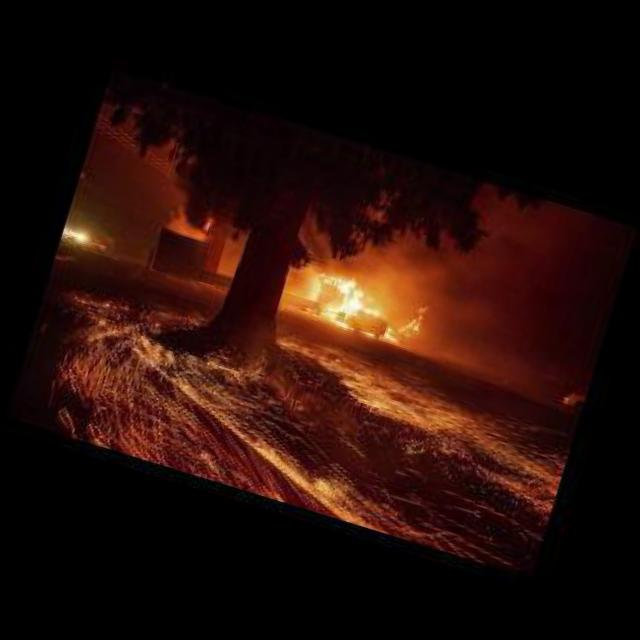fire: (322, 274, 366, 326), (398, 302, 432, 338), (363, 306, 382, 315), (385, 327, 394, 338)
